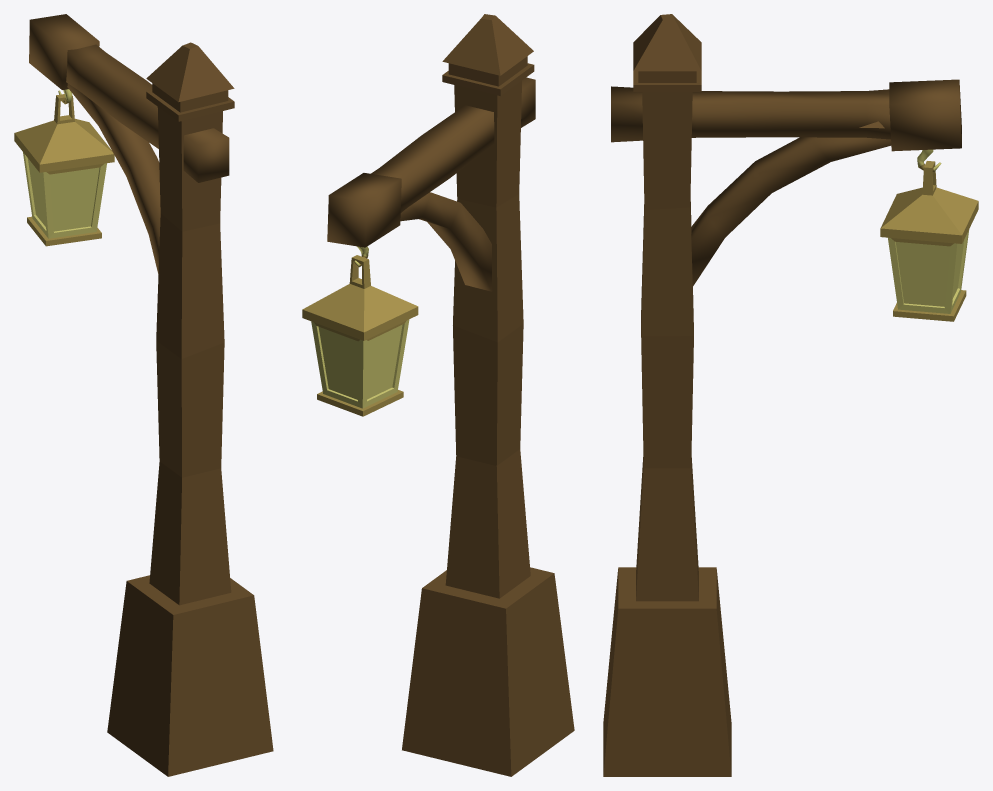
The model's file is Poste2.fbx.
The picture shows the model from 3 angles, left to right: view 1: azimuth 30°, elevation 25°; view 2: azimuth 150°, elevation 25°; view 3: azimuth 270°, elevation 25°; orthographic projection. The views are drawn at different scales.
Parts seen in each view (by area): view 1: Lamp; view 2: Lamp; view 3: Lamp.
Part boxes in pixels (x1,y1,x2,y2): Lamp: (14,14,273,776); Lamp: (302,14,574,776); Lamp: (603,14,978,776).
Size of the model in its own units: 33.51 by 211 by 98.08.
